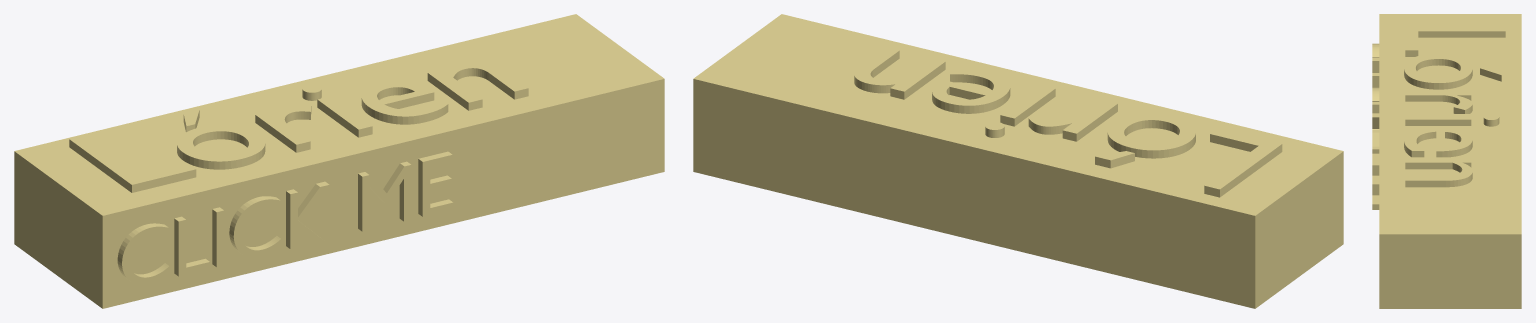
The model's file is lor.glb.
3 renders of one model, left to right at view 1: azimuth 30°, elevation 25°; view 2: azimuth 150°, elevation 25°; view 3: azimuth 270°, elevation 25°, orthographic. The views are drawn at different scales.
Visible parts, largest first — view 1: 文本.008; view 2: 文本.008; view 3: 文本.008.
Part boxes in pixels (x1,y1,x2,y2): 文本.008: [14, 14, 664, 308]; 文本.008: [693, 14, 1343, 308]; 文本.008: [1372, 14, 1521, 308].
Size of the model in its own units: 3.54 by 0.6094 by 1.01.
